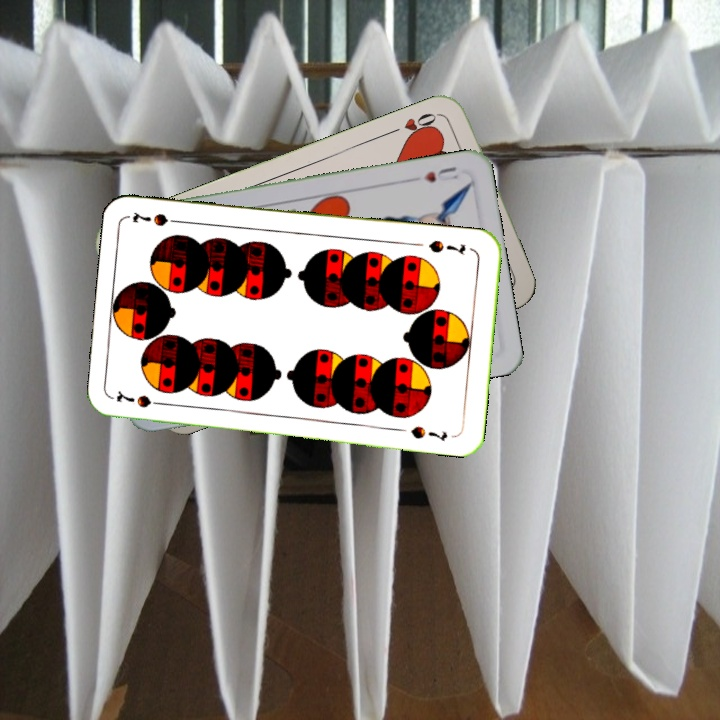HO: (387, 108, 444, 143)
HU: (419, 162, 461, 185)
S7: (112, 388, 170, 411), (425, 236, 468, 258)
